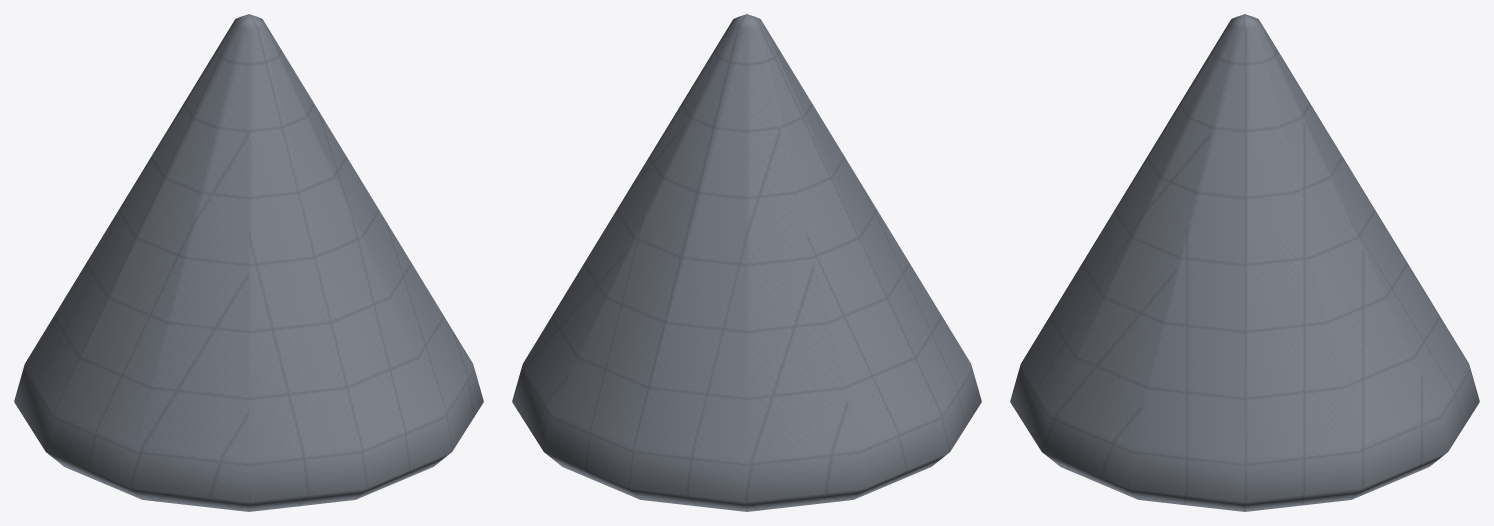
The picture shows the model from 3 angles, left to right: view 1: azimuth 30°, elevation 25°; view 2: azimuth 150°, elevation 25°; view 3: azimuth 270°, elevation 25°; orthographic projection.
Parts seen in each view (by area): view 1: R4B_Cone_LOD1; view 2: R4B_Cone_LOD1; view 3: R4B_Cone_LOD1.
Part boxes in pixels (x1,y1,x2,y2): R4B_Cone_LOD1: (14, 14, 483, 511); R4B_Cone_LOD1: (512, 14, 981, 511); R4B_Cone_LOD1: (1010, 14, 1479, 511).
Size of the model in its own units: 0.52 by 0.4987 by 0.52.
Materials: 1 (1 with a texture image).
